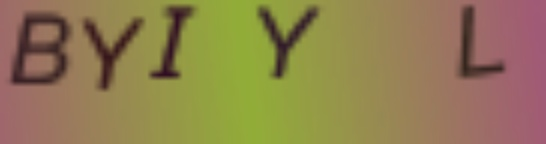B: (12, 5, 74, 90)
I: (150, 1, 199, 83)
L: (453, 1, 510, 84)
Y: (251, 1, 326, 85), (77, 12, 146, 99)
